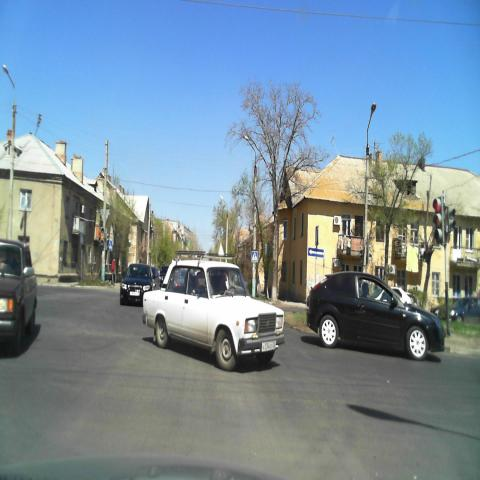5_7_2: (308, 246, 324, 258)
